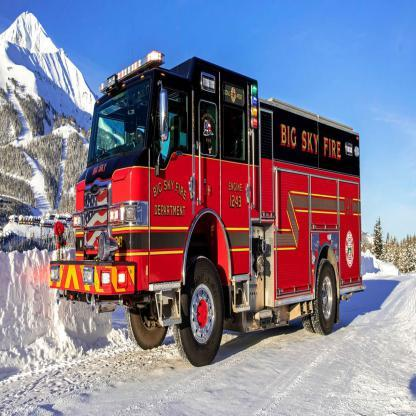fire-truck: (32, 50, 402, 396)
